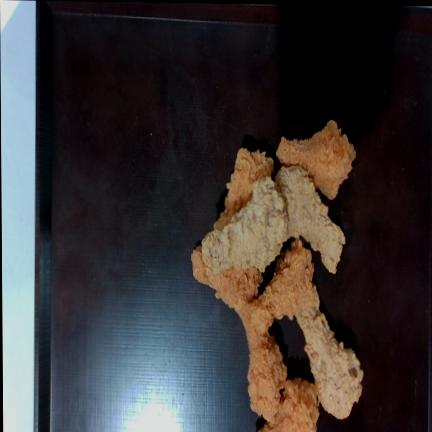chicken: (296, 286, 363, 418), (202, 177, 289, 273), (275, 166, 345, 273), (276, 120, 355, 199), (237, 305, 287, 423), (249, 241, 313, 327), (258, 378, 319, 432)
